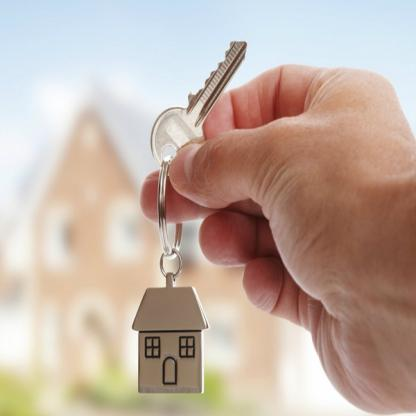keys: (149, 39, 248, 178)
